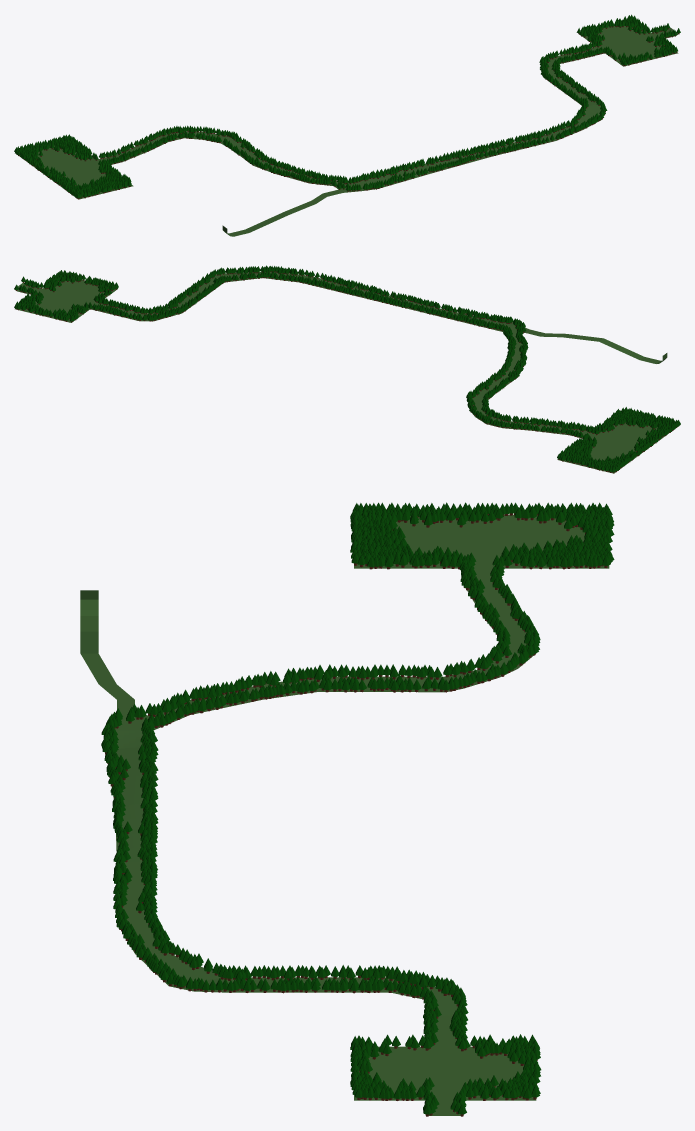
The model's file is Map Prototype v3.glb.
3 renders of one model, top to bottom at view 1: azimuth 30°, elevation 25°; view 2: azimuth 150°, elevation 25°; view 3: azimuth 270°, elevation 25°, orthographic. The views are drawn at different scales.
Visible parts, largest first — view 1: Plane; view 2: Plane; view 3: Plane.
Part boxes in pixels (x1,y1,x2,y2): Plane: [14, 14, 680, 236]; Plane: [14, 265, 680, 473]; Plane: [80, 502, 614, 1116].
Bounding box in the file's own units: 237 × 6.15 × 87.88.
Materials: 3 (1 with a texture image).
